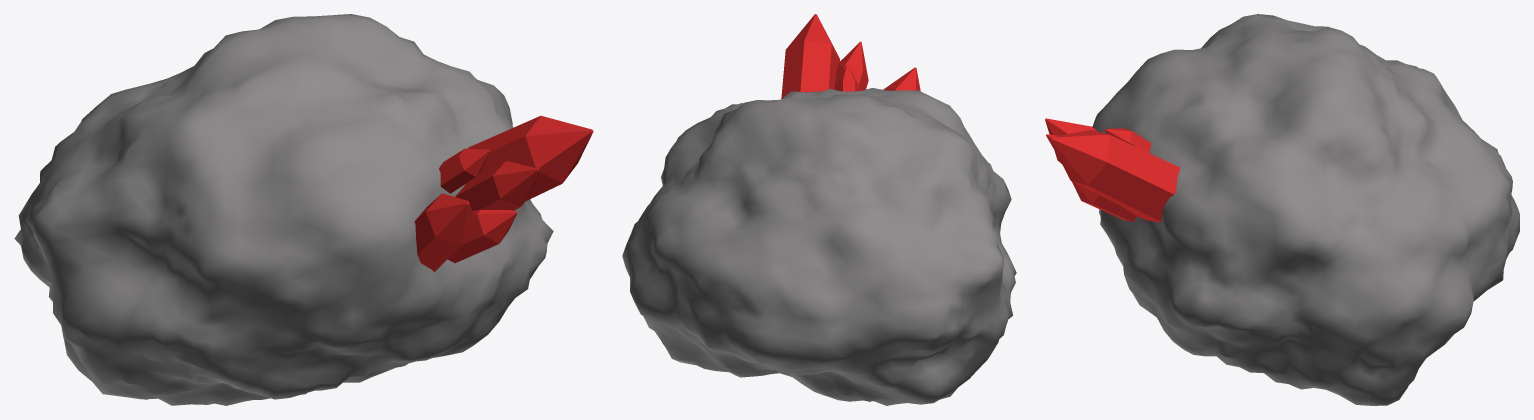
The model's file is redstone_surface.glb.
3 renders of one model, left to right at view 1: azimuth 30°, elevation 25°; view 2: azimuth 150°, elevation 25°; view 3: azimuth 270°, elevation 25°, orthographic. The views are drawn at different scales.
Visible parts, largest first — view 1: redstone_surface; view 2: redstone_surface; view 3: redstone_surface.
Boxes of the visible parts, x1,y1,x2,y2 form: redstone_surface: (14, 14, 593, 405); redstone_surface: (622, 14, 1016, 405); redstone_surface: (1045, 14, 1519, 405).
Size of the model in its own units: 0.9567 by 0.7007 by 0.9696.
